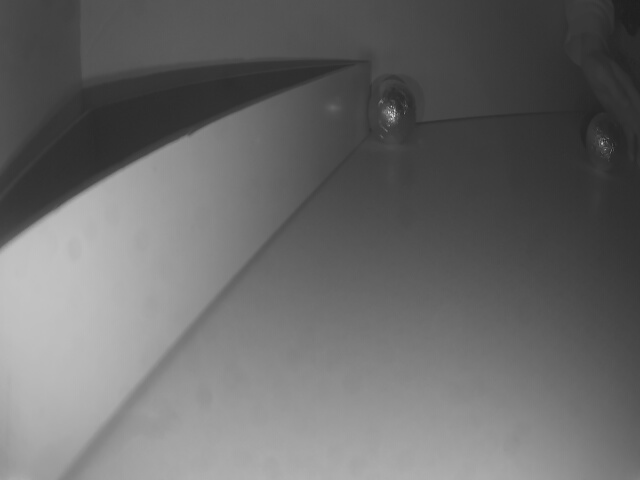Live: (366, 74, 418, 146), (583, 107, 627, 172)
Red: (0, 61, 372, 480)
